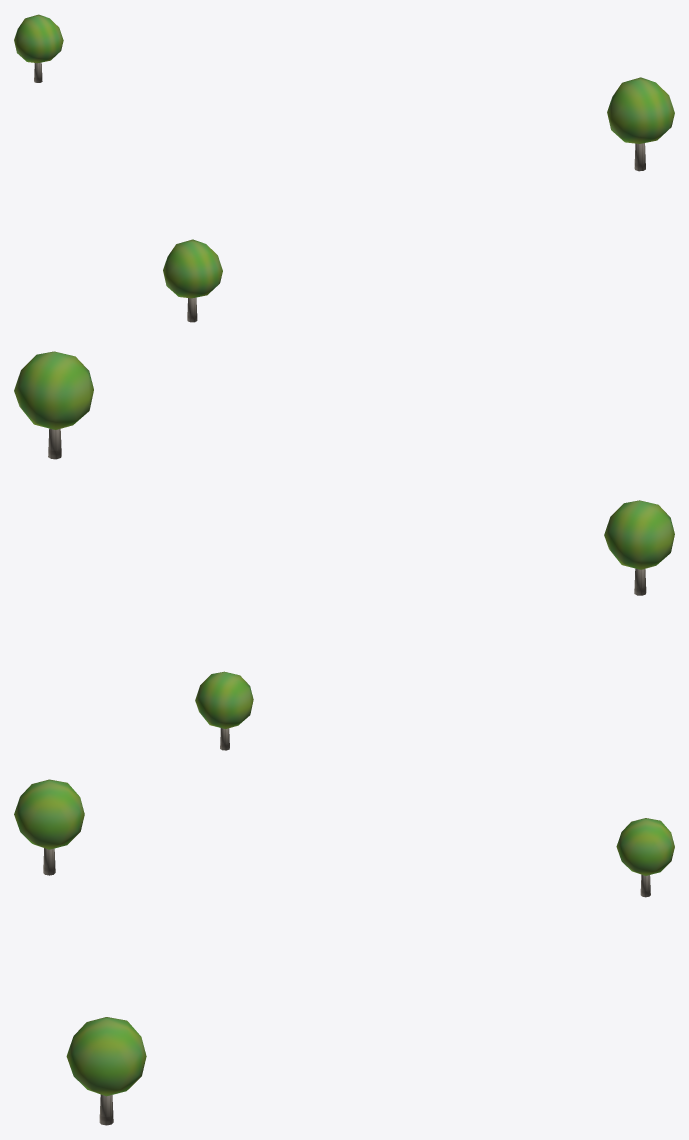
The model's file is ISL-M_LOD0_Trees.fbx.
The picture shows the model from 3 angles, top to bottom: view 1: azimuth 30°, elevation 25°; view 2: azimuth 150°, elevation 25°; view 3: azimuth 270°, elevation 25°; orthographic projection. The views are drawn at different scales.
Parts seen in each view (by area): view 1: ISL-M_LOD0_Trees; view 2: ISL-M_LOD0_Trees; view 3: ISL-M_LOD0_Trees.
Part boxes in pixels (bbox=[...]): ISL-M_LOD0_Trees: bbox=[14, 14, 674, 322]; ISL-M_LOD0_Trees: bbox=[14, 351, 674, 750]; ISL-M_LOD0_Trees: bbox=[14, 779, 674, 1125].
Bounding box in the file's own units: 31.69 × 29.19 × 6.13.
